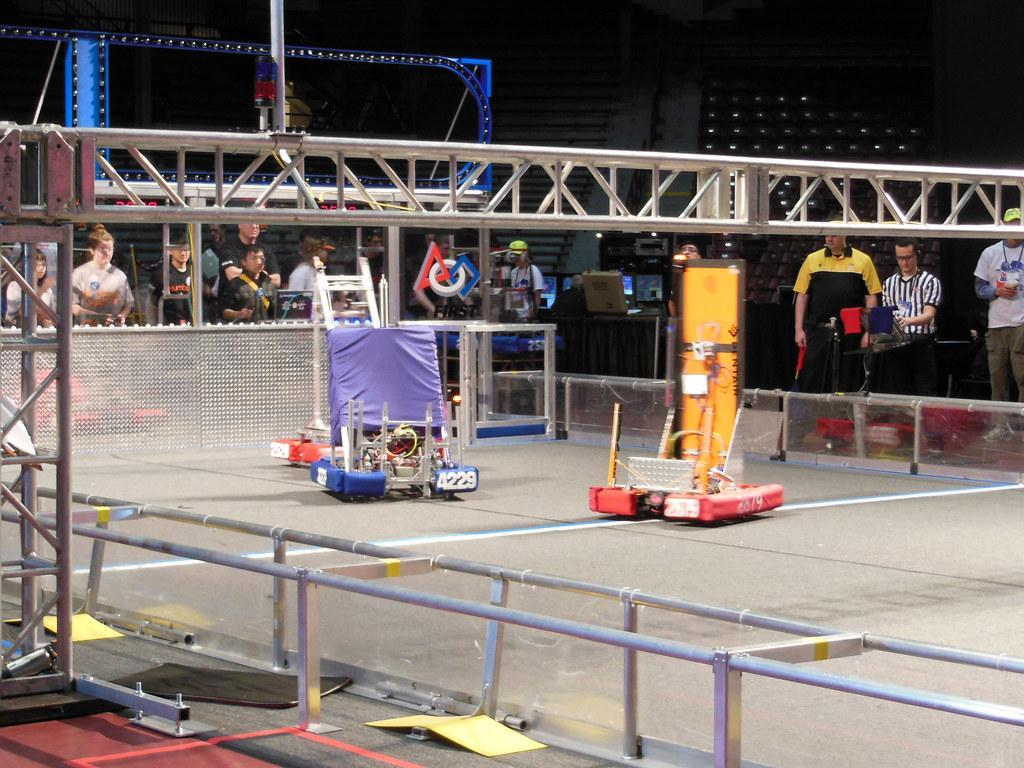robot: (587, 250, 790, 532), (307, 303, 485, 504), (274, 255, 409, 470)
